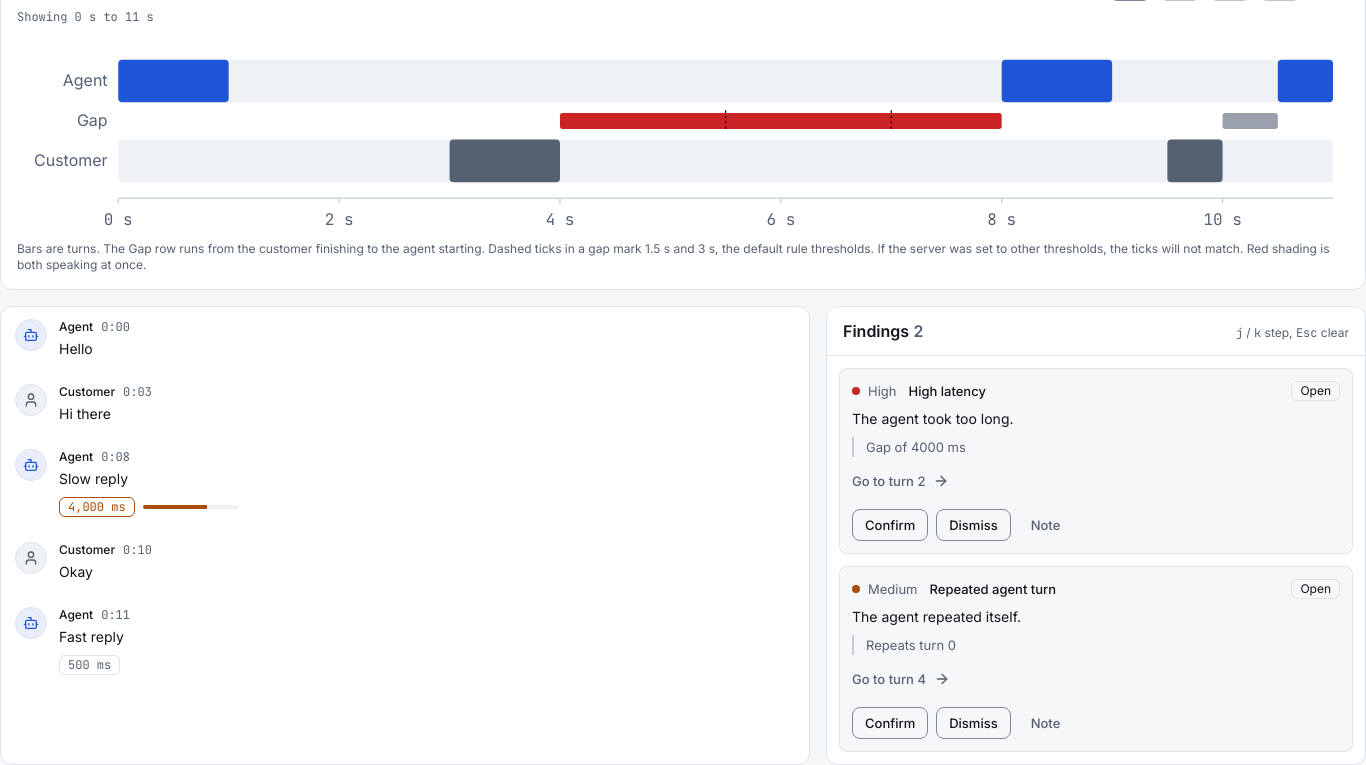
call inspector page › shows the new status after a confirm and reload
(page scrolled)
Click the button "Confirm" below "High latency": (890, 525) [852, 509, 928, 541]
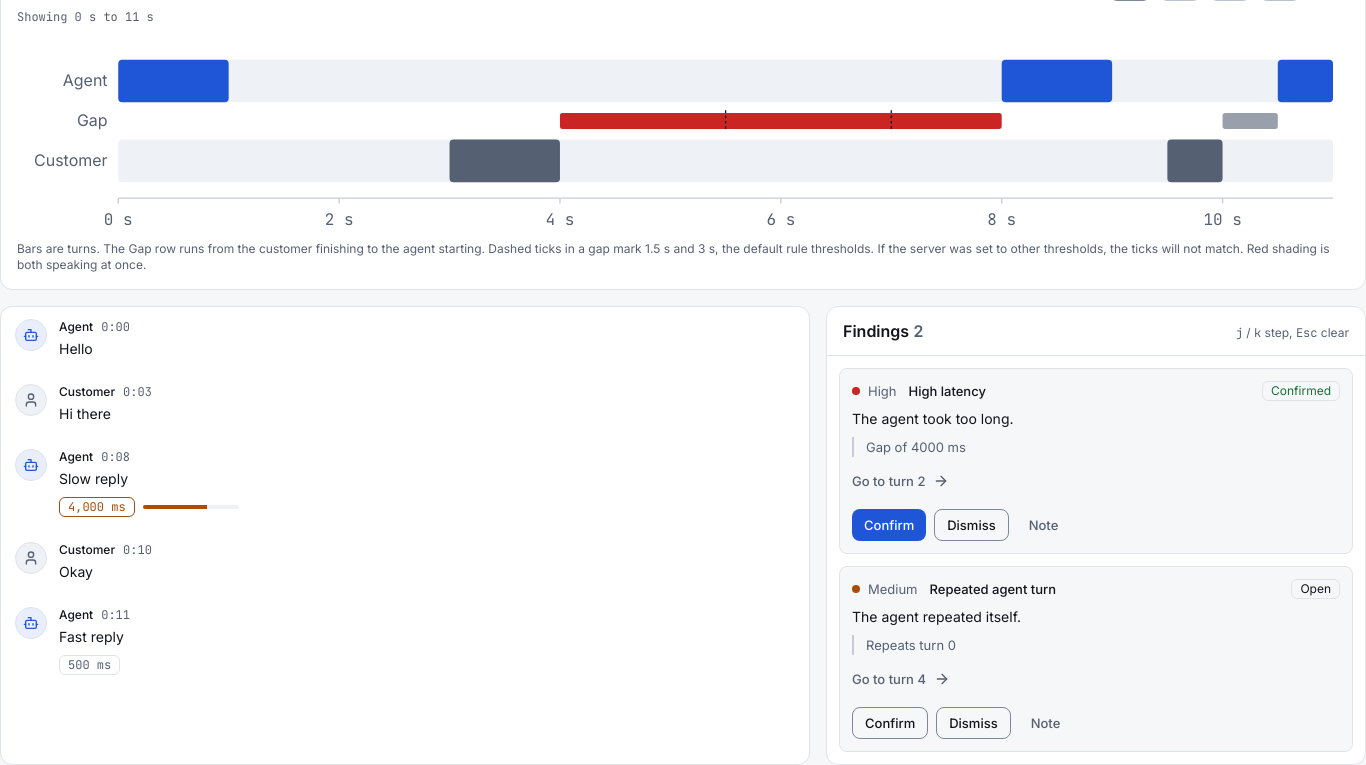
Expected: the text "Confirmed" is shown, [1262, 381, 1340, 401]
